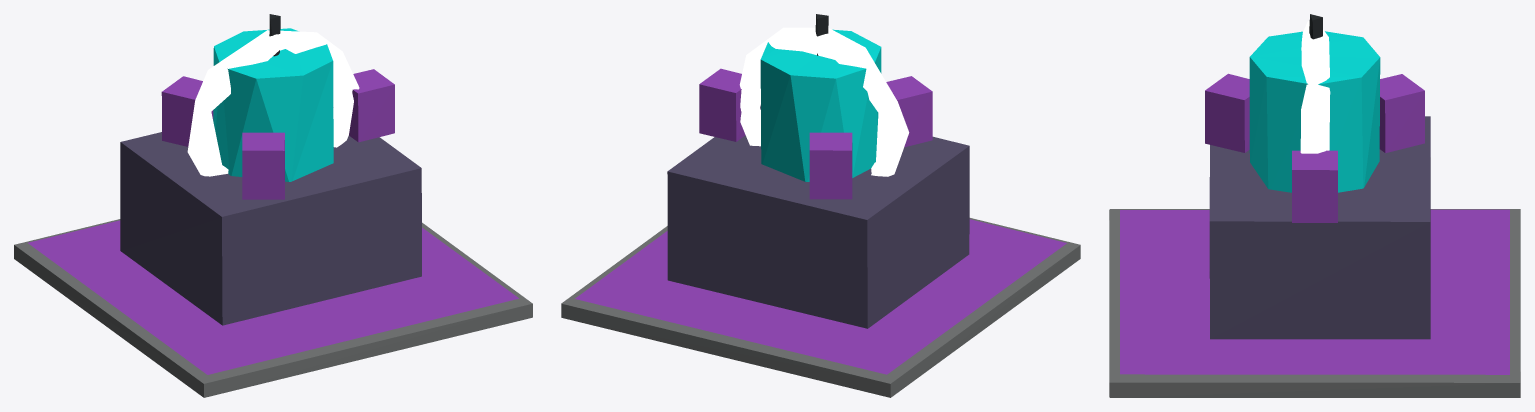
Rendered from SM_Chronolegion_CH_ConYard_LOD3.fbx.
The picture shows the model from 3 angles, left to right: view 1: azimuth 30°, elevation 25°; view 2: azimuth 150°, elevation 25°; view 3: azimuth 270°, elevation 25°; orthographic projection. The views are drawn at different scales.
Visible parts, largest first — view 1: LOD03_SM_Chronolegion_CH_ConYard; view 2: LOD03_SM_Chronolegion_CH_ConYard; view 3: LOD03_SM_Chronolegion_CH_ConYard.
Boxes of the visible parts, x1,y1,x2,y2 form: LOD03_SM_Chronolegion_CH_ConYard: (14, 14, 532, 397); LOD03_SM_Chronolegion_CH_ConYard: (561, 14, 1080, 397); LOD03_SM_Chronolegion_CH_ConYard: (1109, 14, 1520, 397).
Size of the model in its own units: 797 by 797 by 629.
